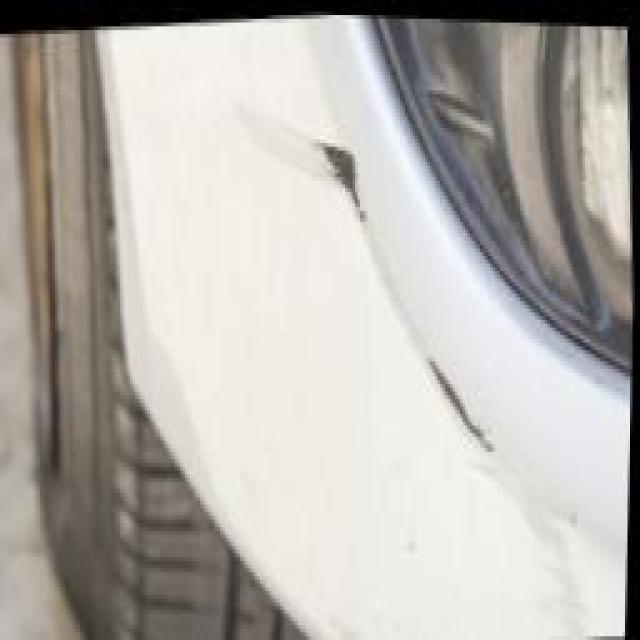Bumper: (162, 34, 620, 640)
